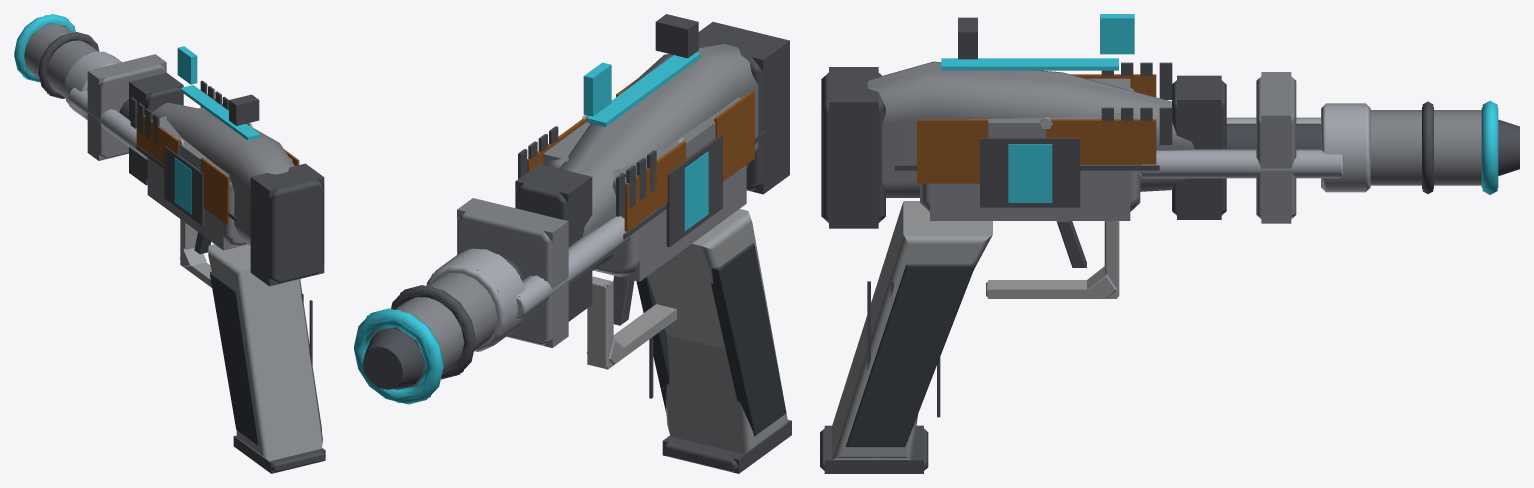
File: eplasma.glb
The picture shows the model from 3 angles, left to right: view 1: azimuth 30°, elevation 25°; view 2: azimuth 150°, elevation 25°; view 3: azimuth 270°, elevation 25°; orthographic projection. The views are drawn at different scales.
Visible parts, largest first — view 1: L0, L1; view 2: L0, L1; view 3: L0, L1.
Part boxes in pixels (x1,y1,x2,y2): L0: (14,14,325,472); L1: (20,15,325,473); L0: (354,14,791,472); L1: (355,22,791,473); L0: (820,14,1519,470); L1: (824,67,1519,473).
Size of the model in its own units: 0.046 by 0.1955 by 0.2816.
